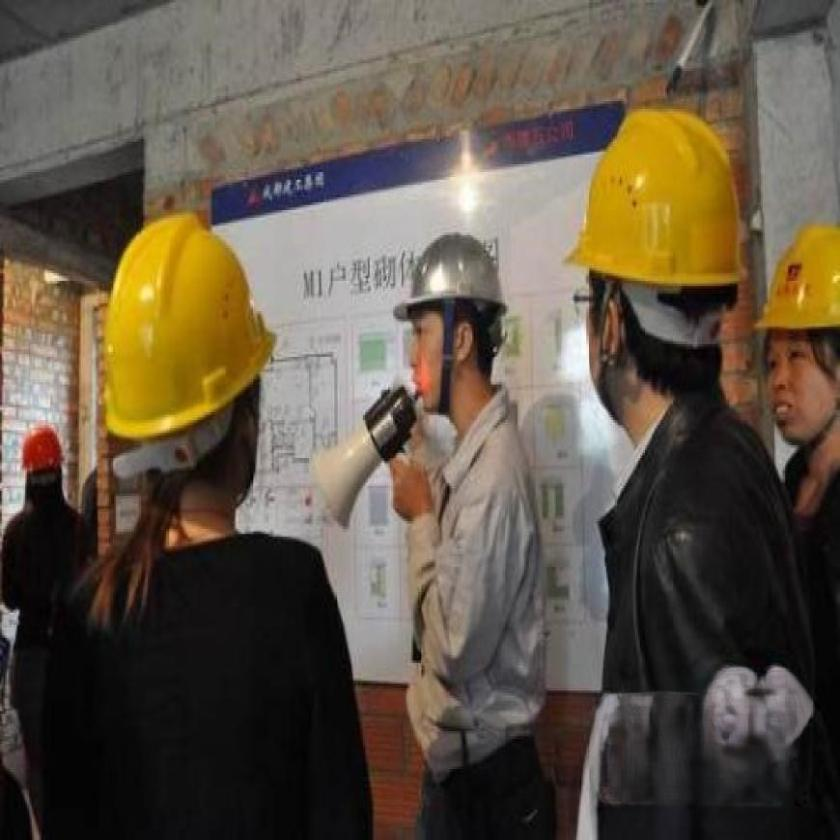Con_casco: (98, 202, 282, 530), (566, 92, 744, 429), (388, 215, 513, 433), (751, 221, 840, 494)
